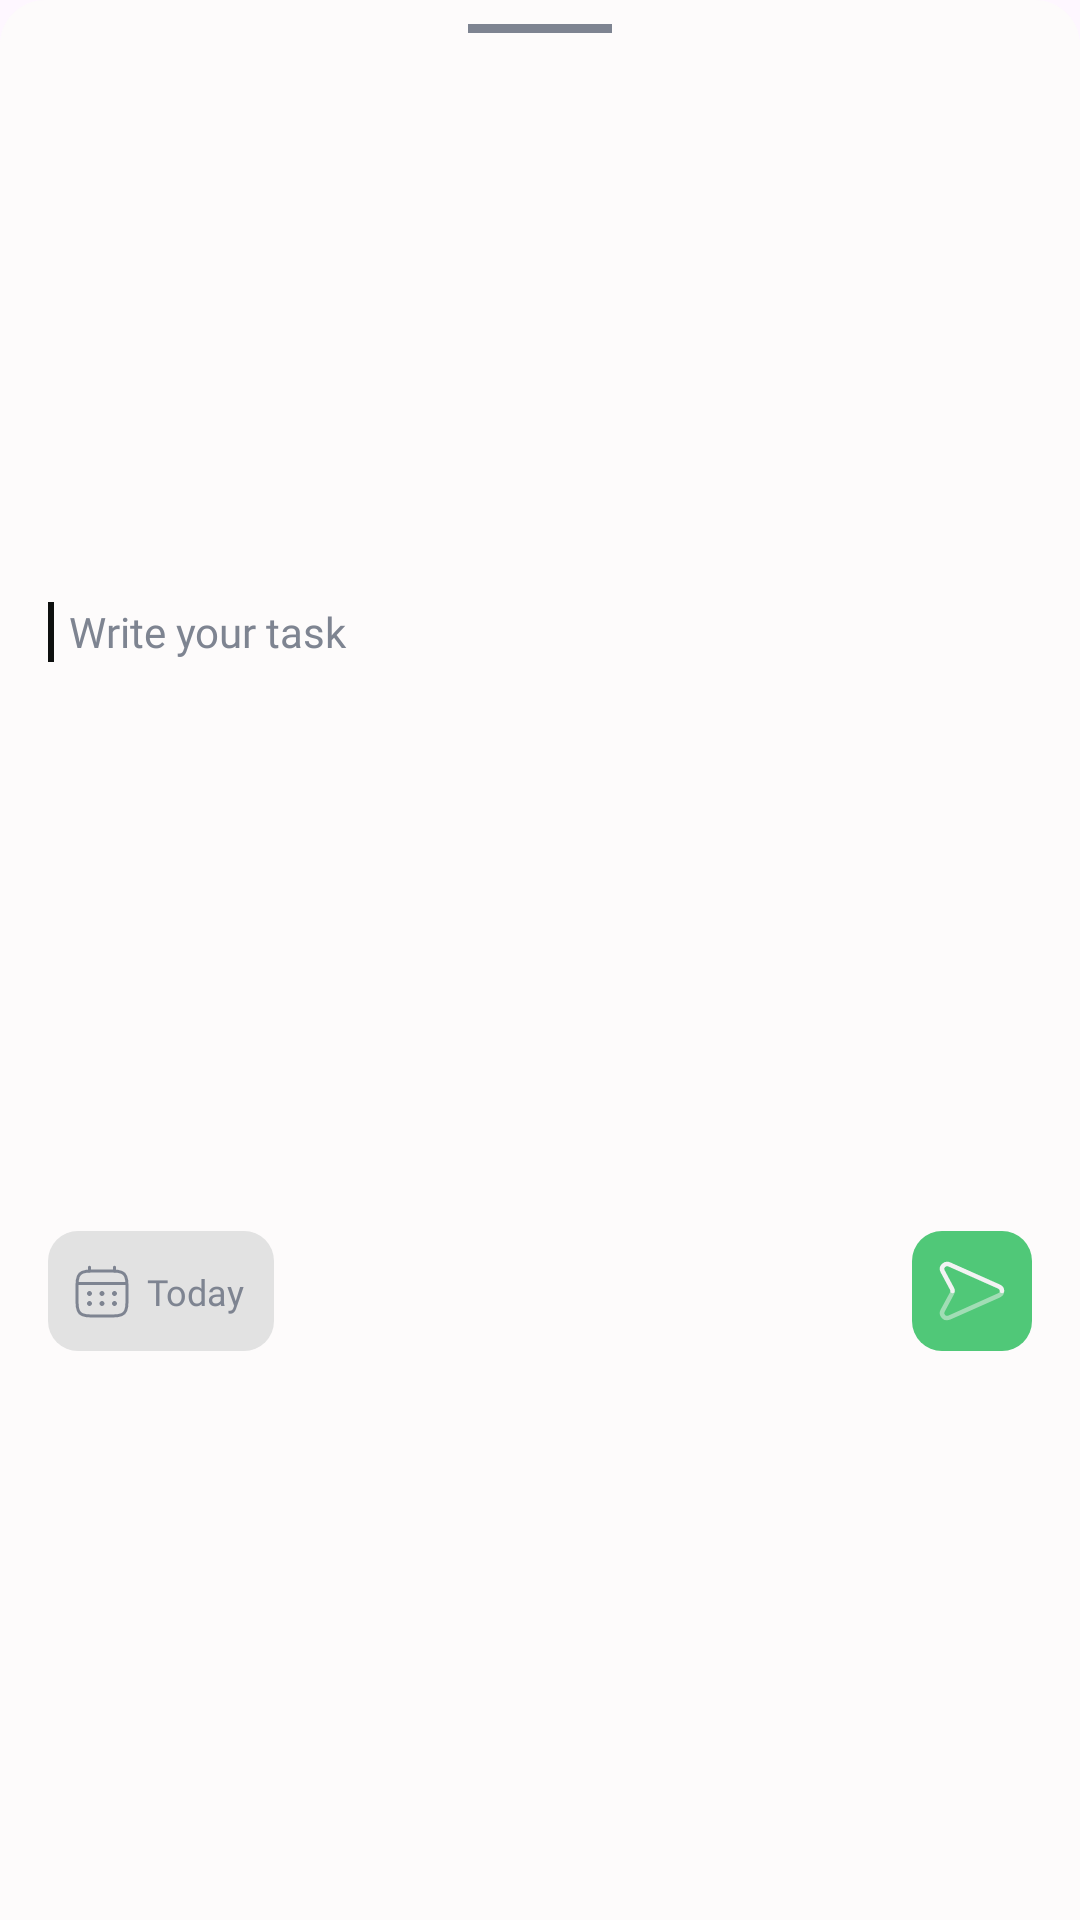

Icon click points for this 1080x1920 phone screenshot, format [x,y]:
arrow right: [972,1291]
calendar: [102,1292]
